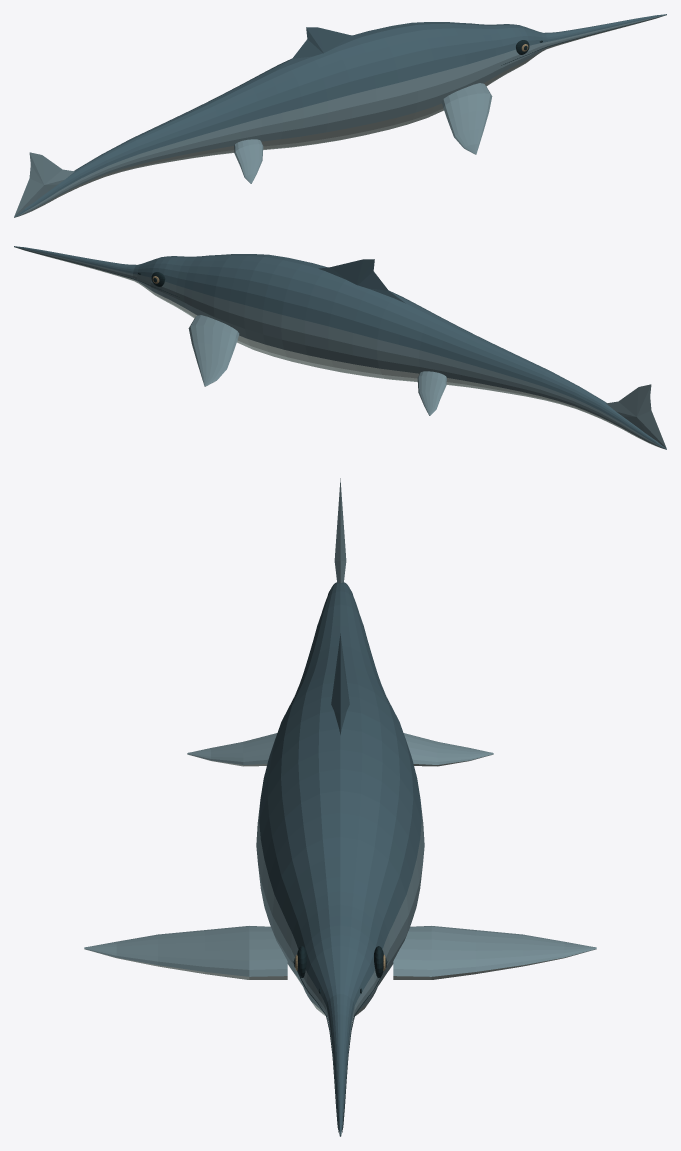
The picture shows the model from 3 angles, top to bottom: view 1: azimuth 30°, elevation 25°; view 2: azimuth 150°, elevation 25°; view 3: azimuth 270°, elevation 25°; orthographic projection. The views are drawn at different scales.
Parts seen in each view (by area): view 1: 01_continuous_head_trunk_axial_tail, 02_fore_left, 05_modest_caudal_membrane_inferred, 04_low_dorsal_inferred, 03_hind_left, 06_eyes_nares_closed_jaw_seams; view 2: 01_continuous_head_trunk_axial_tail, 02_fore_right, 05_modest_caudal_membrane_inferred, 04_low_dorsal_inferred, 03_hind_right, 06_eyes_nares_closed_jaw_seams; view 3: 01_continuous_head_trunk_axial_tail, 02_fore_left, 02_fore_right, 03_hind_left, 03_hind_right, 06_eyes_nares_closed_jaw_seams, 04_low_dorsal_inferred.
Boxes of the visible parts, x1,y1,x2,y2 form: 01_continuous_head_trunk_axial_tail: (14,14,666,217); 02_fore_left: (441,83,492,154); 05_modest_caudal_membrane_inferred: (14,152,74,216); 04_low_dorsal_inferred: (275,27,362,71); 03_hind_left: (234,139,263,183); 06_eyes_nares_closed_jaw_seams: (501,16,662,65); 01_continuous_head_trunk_axial_tail: (14,246,666,449); 02_fore_right: (188,315,239,386); 05_modest_caudal_membrane_inferred: (606,384,666,448); 04_low_dorsal_inferred: (318,259,405,303); 03_hind_right: (417,371,446,415); 06_eyes_nares_closed_jaw_seams: (18,248,179,297); 01_continuous_head_trunk_axial_tail: (256,582,424,1136); 02_fore_left: (84,926,287,979); 02_fore_right: (393,926,596,979); 03_hind_left: (187,733,277,766); 03_hind_right: (403,733,493,766); 06_eyes_nares_closed_jaw_seams: (293,946,387,1132); 04_low_dorsal_inferred: (331,633,349,734).
Bounding box in the file's own units: 2.56 × 0.447 × 0.87.
